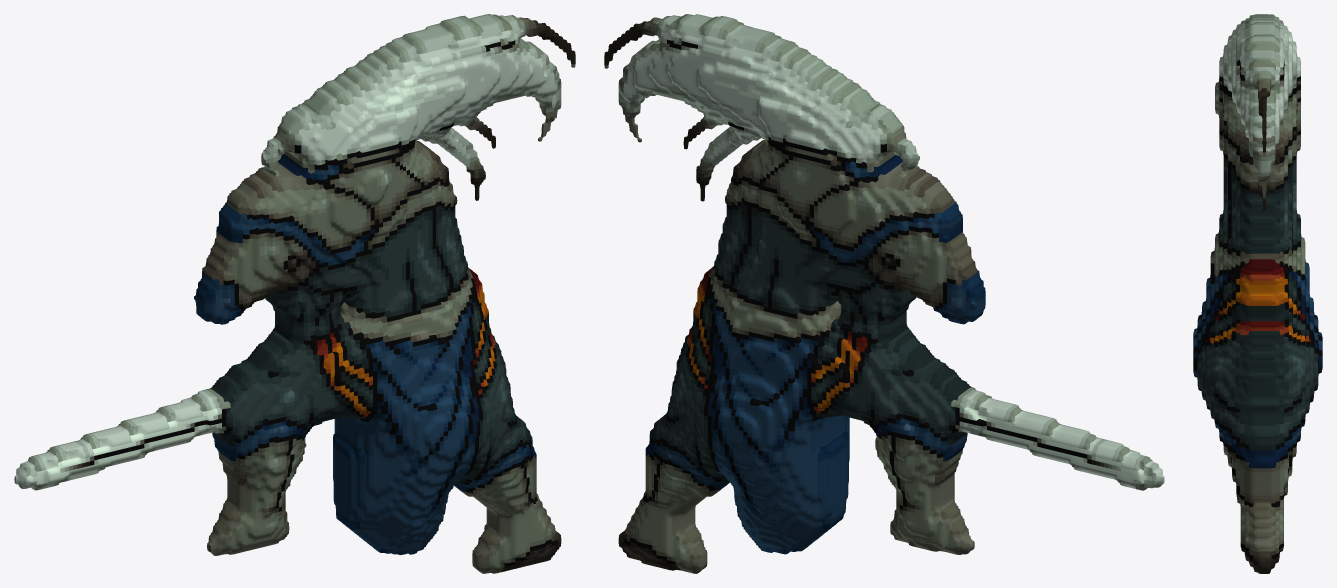
Rendered from Fight_107_2_07.obj.
3 views of the same model, side by side, from view 1: azimuth 30°, elevation 25°; view 2: azimuth 150°, elevation 25°; view 3: azimuth 270°, elevation 25° (orthographic). The views are drawn at different scales.
Bounding box in the file's own units: 13.37 × 12.7 × 3.
1 material, 1 textured.
